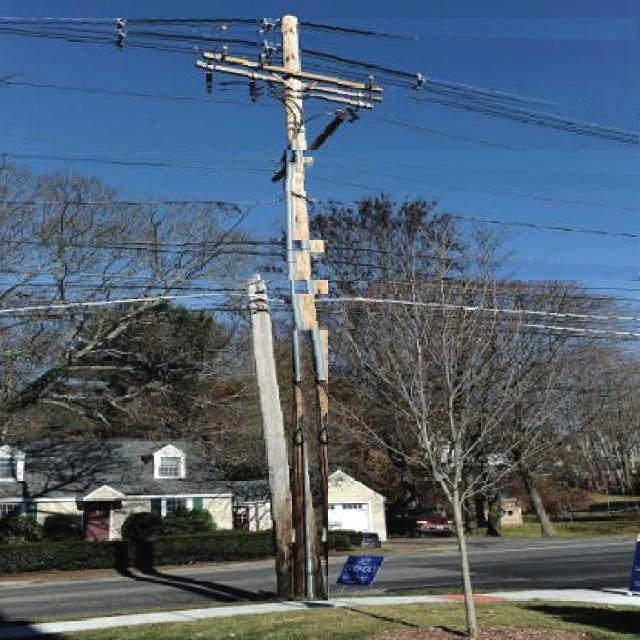crossarm: (196, 48, 385, 91), (303, 95, 355, 154), (271, 154, 285, 173)
pole: (281, 11, 328, 595), (247, 264, 292, 598)
wire: (0, 26, 597, 119), (0, 80, 554, 150), (0, 18, 636, 77), (0, 152, 542, 213), (2, 191, 640, 240), (2, 238, 503, 280), (1, 294, 640, 326)
